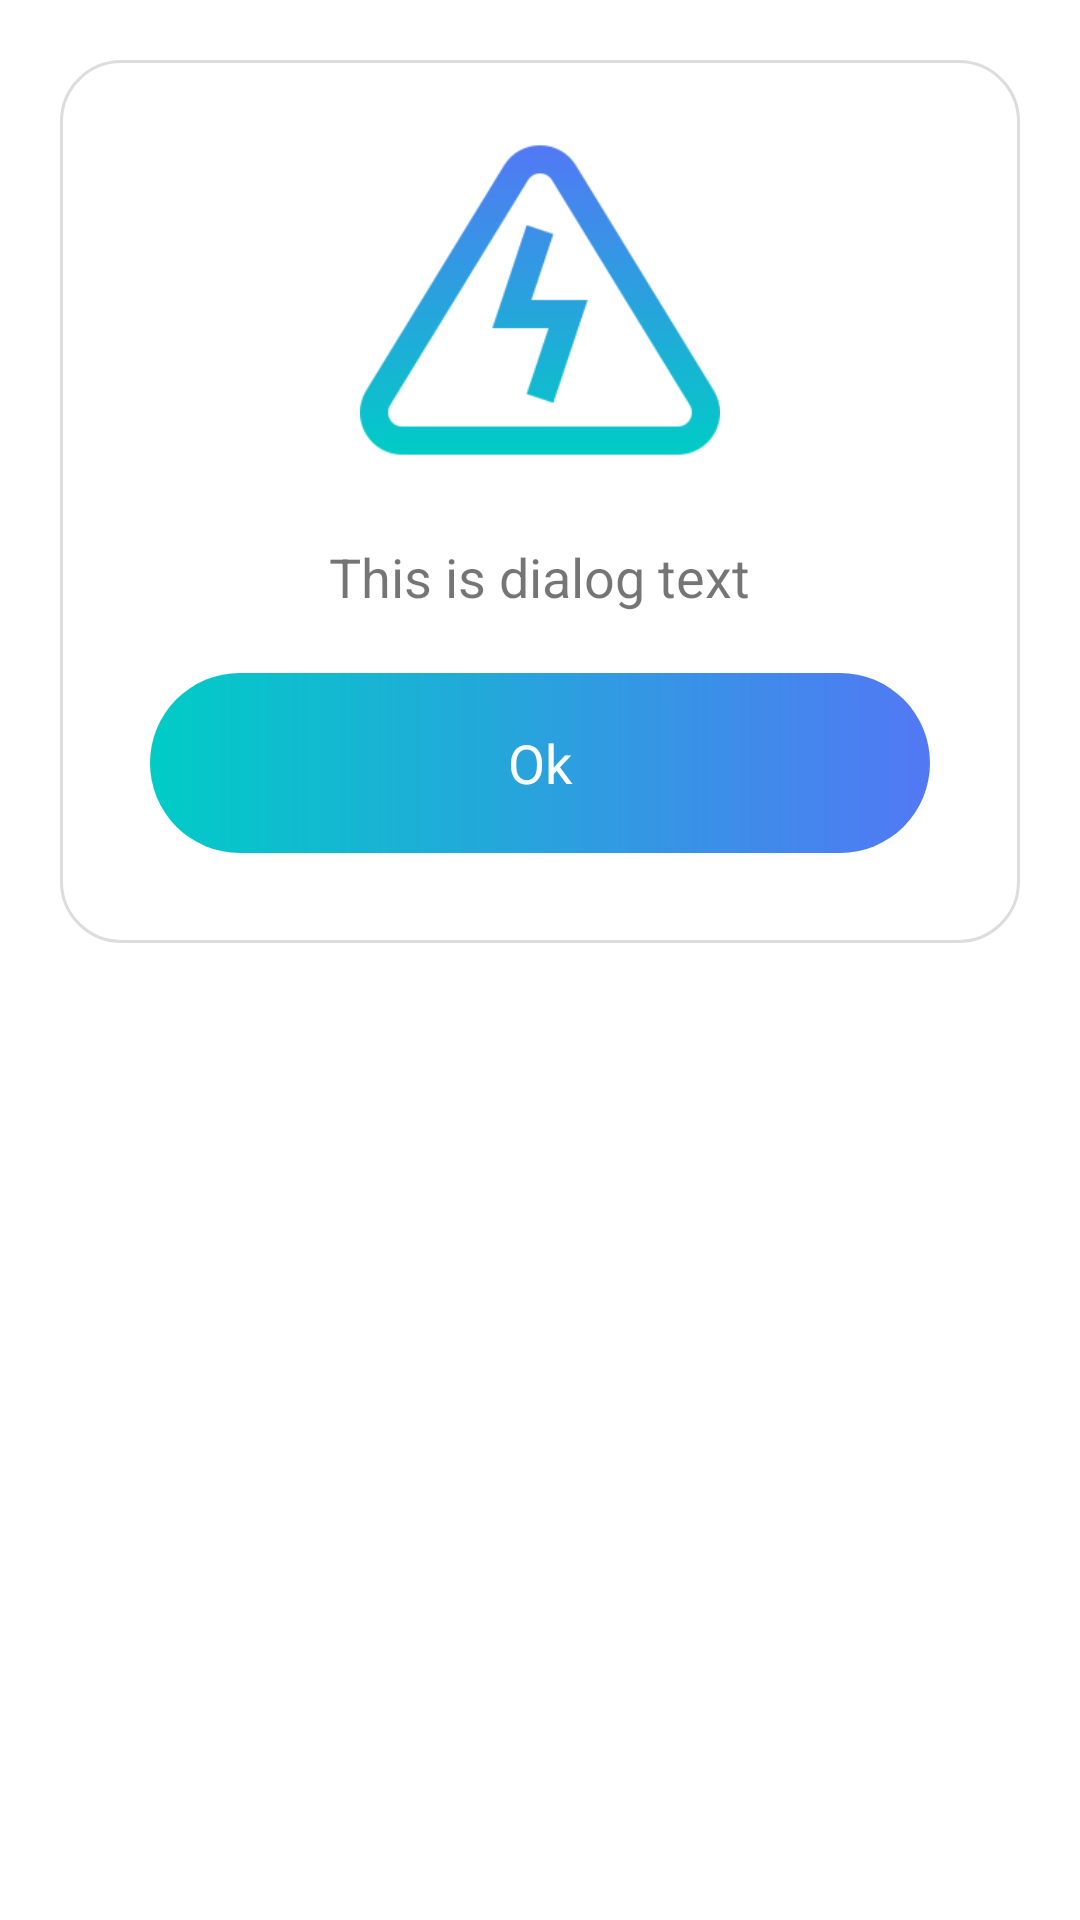

Point at icon controls on the screen. Image size 1080×1920, points as (x,y).
warning: (540,300)
